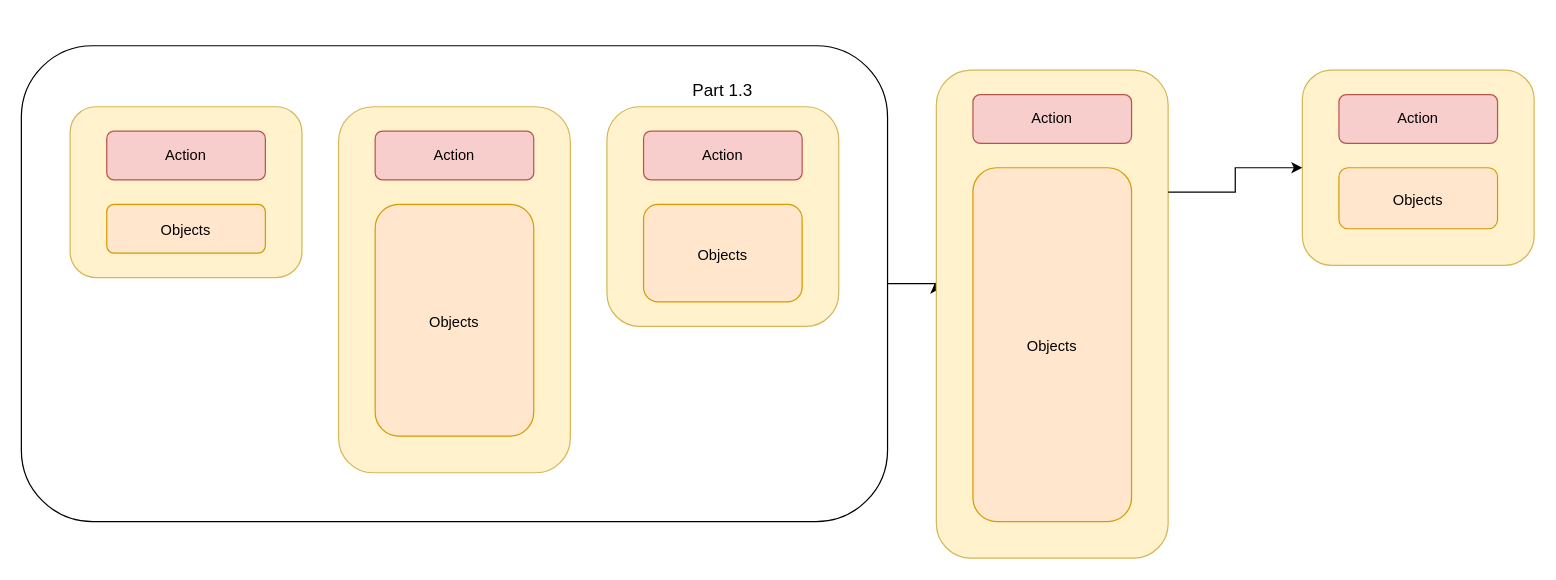
This 1556x580 diagram has some shape labels left out. The shapes that lost their labels are listed below. From the top down, each one's box as (x1, y1, x2, y2) in pixels, then its label:
(1301, 69, 1534, 265): Part N
(69, 106, 302, 278): Part 1.1
(337, 106, 570, 473): Part 1.2
(20, 45, 888, 522): Part 1 (composite)
(935, 69, 1168, 558): Part 2
